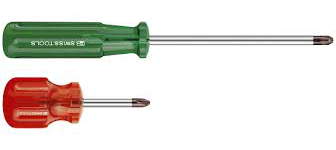screwdriver: (10, 72, 158, 131)
